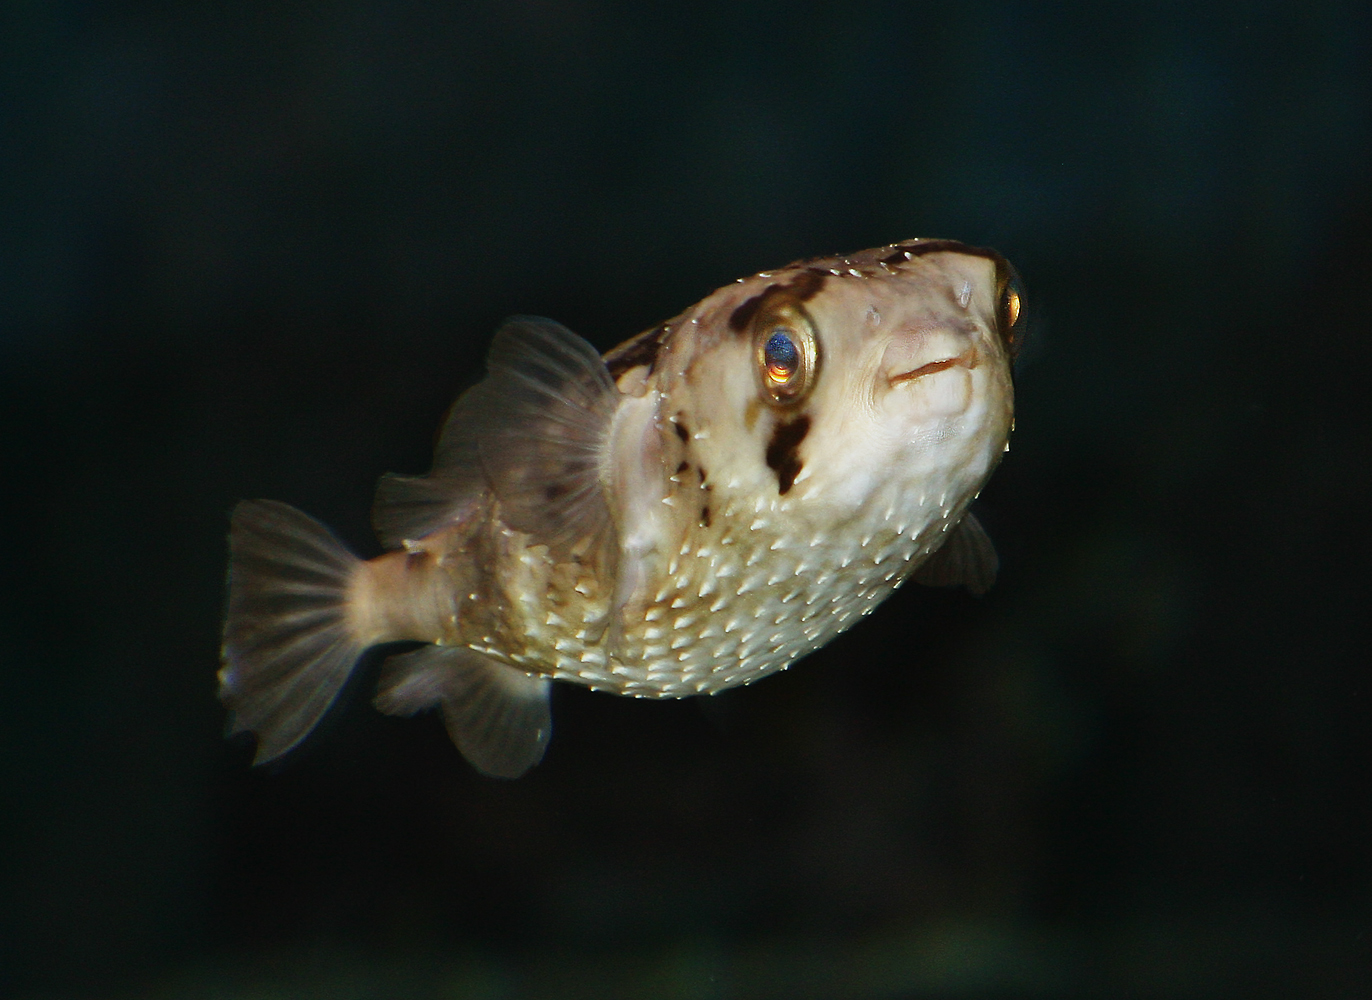Diodon_holocanthus: (174, 192, 1100, 823)
